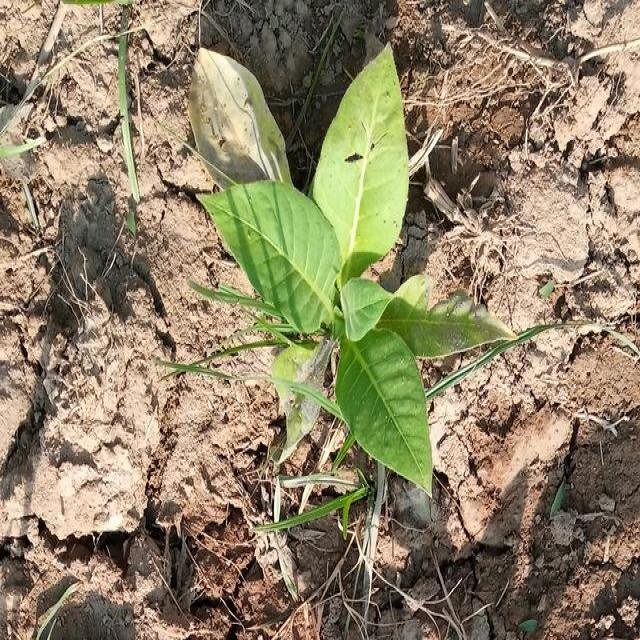crop: (194, 62, 499, 486)
